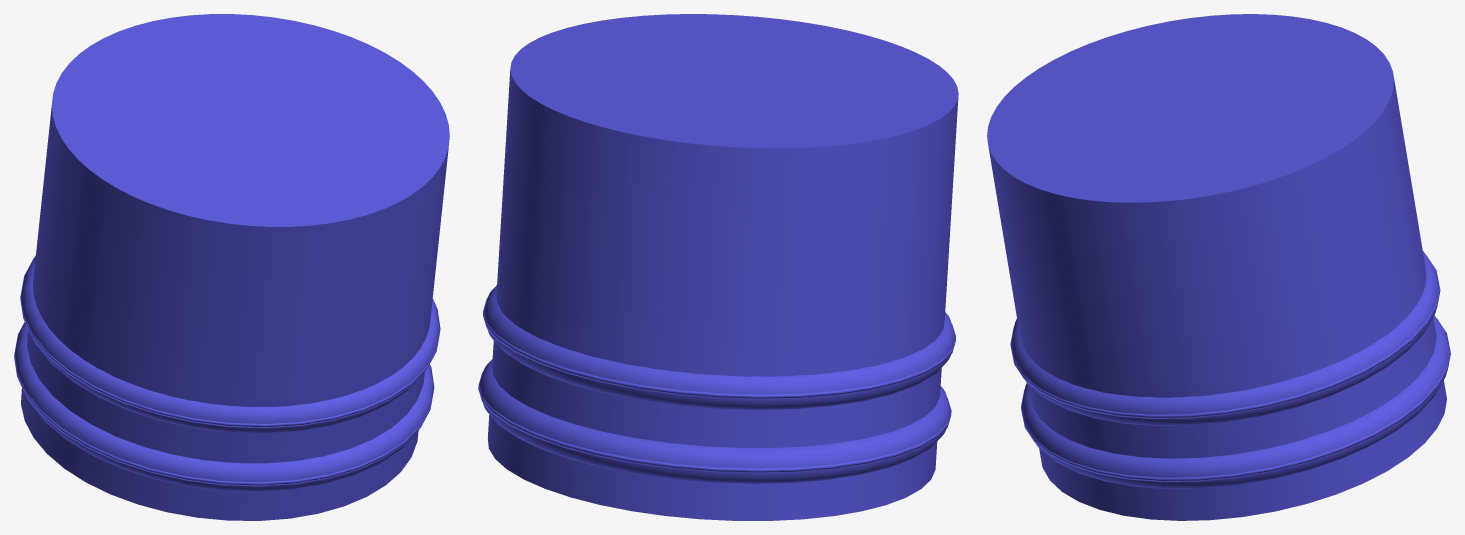
File: bombilla197.obj
3 renders of one model, left to right at view 1: azimuth 30°, elevation 25°; view 2: azimuth 150°, elevation 25°; view 3: azimuth 270°, elevation 25°, orthographic. The views are drawn at different scales.
Visible parts, largest first — view 1: Cylinder001, Cylinder004, Cylinder002, Cylinder003, Cylinder006; view 2: Cylinder001, Cylinder004, Cylinder003, Cylinder006, Cylinder002; view 3: Cylinder001, Cylinder004, Cylinder003, Cylinder002, Cylinder006.
Boxes of the visible parts, x1,y1,x2,y2 form: Cylinder001: (32,14,449,407); Cylinder004: (14,322,434,491); Cylinder002: (20,255,440,433); Cylinder003: (27,329,424,463); Cylinder006: (21,388,418,520); Cylinder001: (496,14,958,376); Cylinder004: (478,359,951,483); Cylinder003: (492,340,941,447); Cylinder006: (487,414,937,520); Cylinder002: (483,285,955,409); Cylinder001: (987,14,1426,397); Cylinder004: (1021,315,1450,489); Cylinder003: (1028,317,1436,458); Cylinder002: (1010,251,1440,425); Cylinder006: (1039,380,1446,520).
Size of the model in its own units: 72.45 by 69.1 by 77.16.
